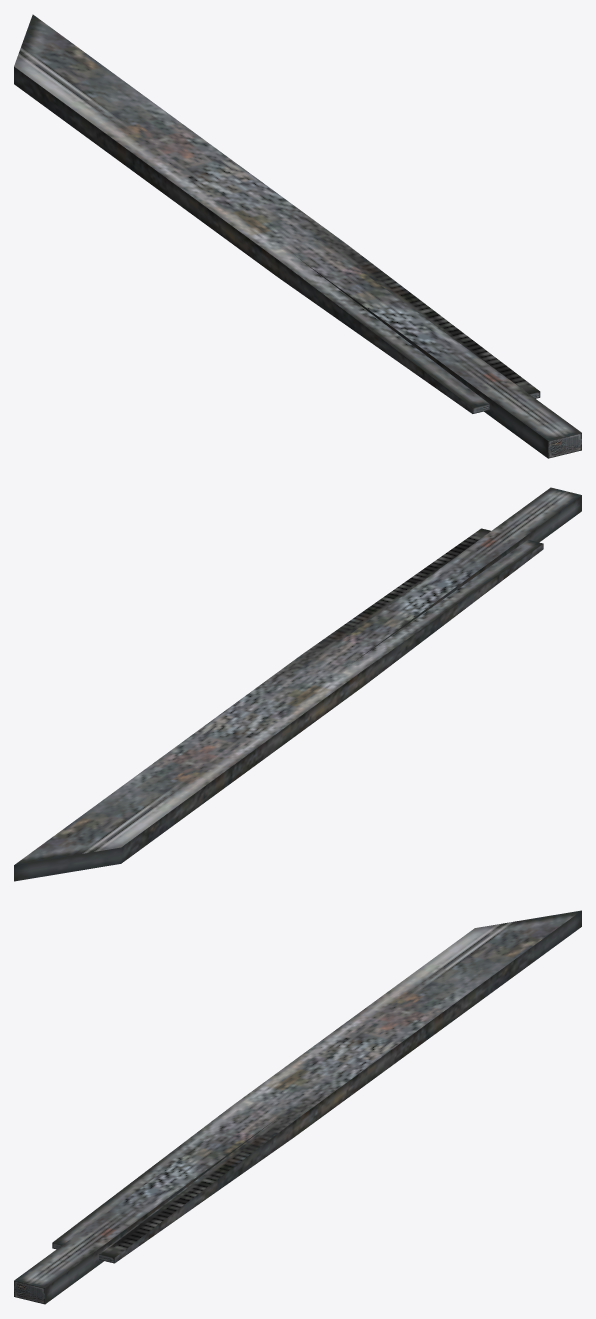
The model's file is eqp_comp_sword_core.fbx.
The picture shows the model from 3 angles, top to bottom: view 1: azimuth 30°, elevation 25°; view 2: azimuth 150°, elevation 25°; view 3: azimuth 330°, elevation 25°; orthographic projection. The views are drawn at different scales.
Parts seen in each view (by area): view 1: mesh_node; view 2: mesh_node; view 3: mesh_node.
Part boxes in pixels (box(x1,y1,x2,y2)): mesh_node: box(14, 14, 581, 458); mesh_node: box(14, 487, 581, 881); mesh_node: box(14, 910, 581, 1304).
Bounding box in the file's own units: 0.05 × 0.0125 × 0.725.
